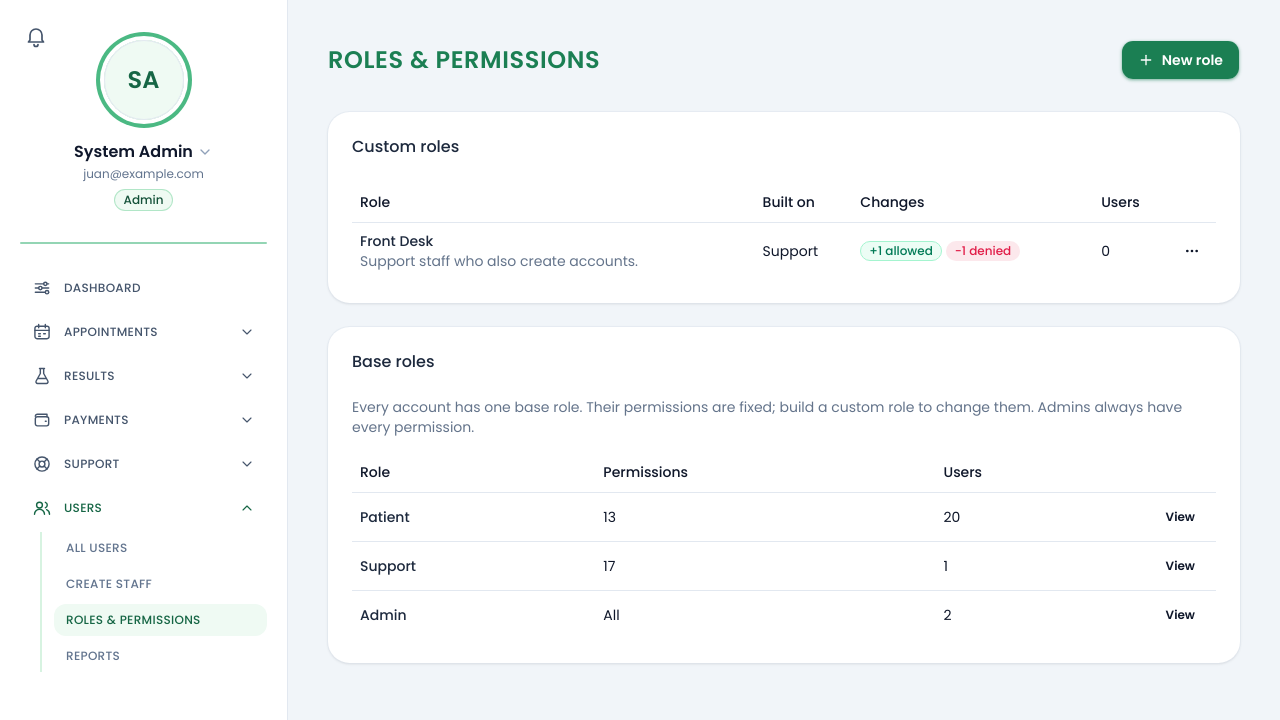
RolesPage › shows why a role in use can't be deleted
Click the button named "Actions for Front Desk" at (1192, 250), box [1176, 234, 1208, 266]
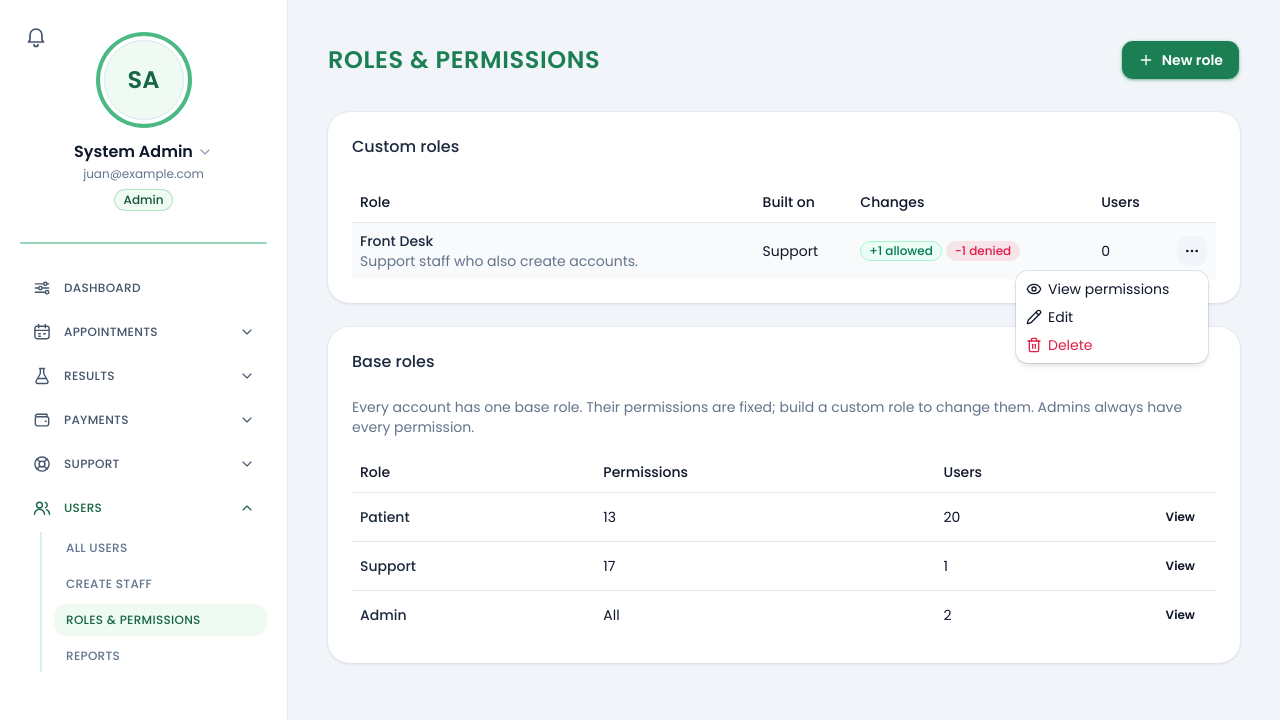
Click the menu item "Delete" at (1059, 345), box [1026, 335, 1092, 355]
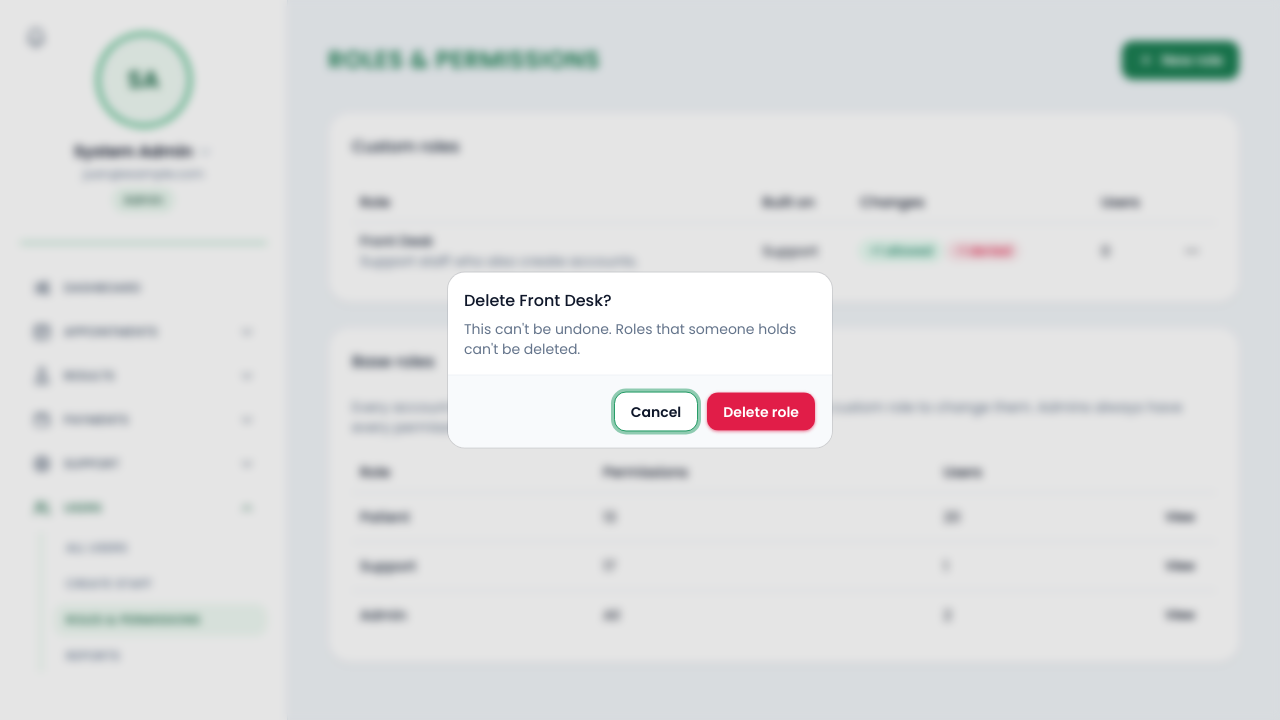
Click the button "Delete role" at (761, 412), box [706, 392, 816, 432]
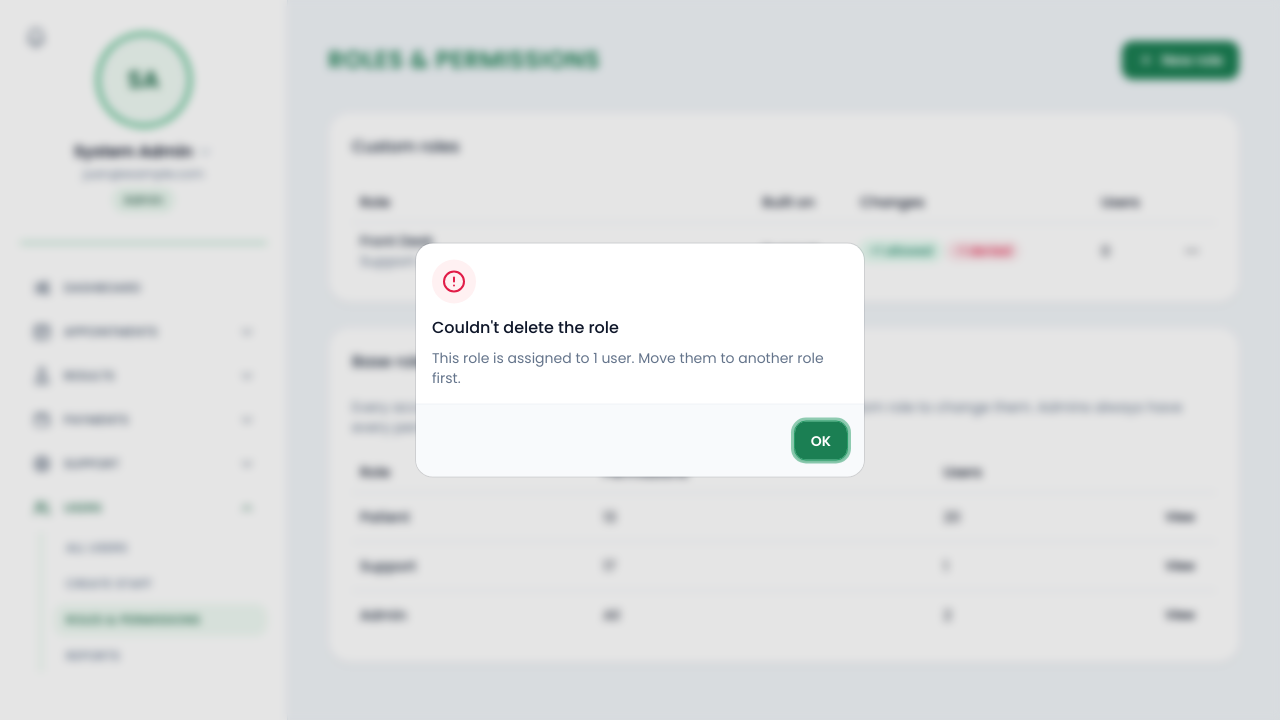
Now the dialog shows "assigned to 1 user", box [432, 348, 824, 388]
